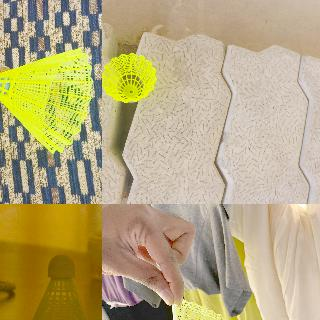shuttlecock: (0, 48, 93, 154), (27, 254, 92, 319), (102, 52, 156, 102), (169, 299, 227, 319)
